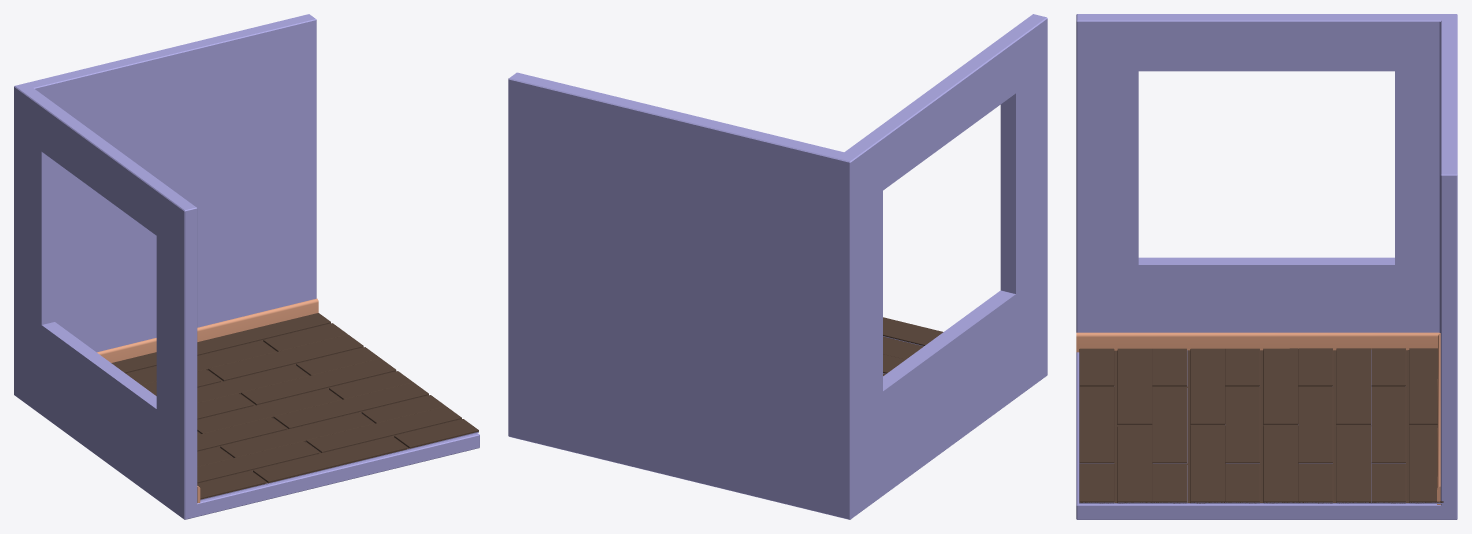
File: room.glb
3 views of the same model, side by side, from view 1: azimuth 30°, elevation 25°; view 2: azimuth 150°, elevation 25°; view 3: azimuth 270°, elevation 25° (orthographic). The views are drawn at different scales.
Visible parts, largest first — view 1: walls, floor, wall floor part; view 2: walls, floor; view 3: walls, floor, wall floor part.
Part boxes in pixels (<box>): walls: <box>14,14,479,519</box>; floor: <box>111,313,478,500</box>; wall floor part: <box>97,298,318,503</box>; walls: <box>508,14,1047,519</box>; floor: <box>883,317,943,375</box>; walls: <box>1076,14,1457,519</box>; floor: <box>1079,348,1443,503</box>; wall floor part: <box>1076,332,1440,504</box>.
Bounding box in the file's own units: 4 × 4.01 × 4.
